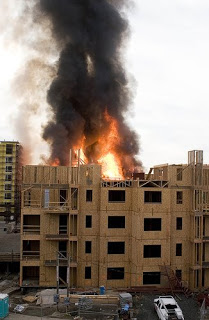Fire: (99, 117, 123, 178), (73, 125, 97, 147)
